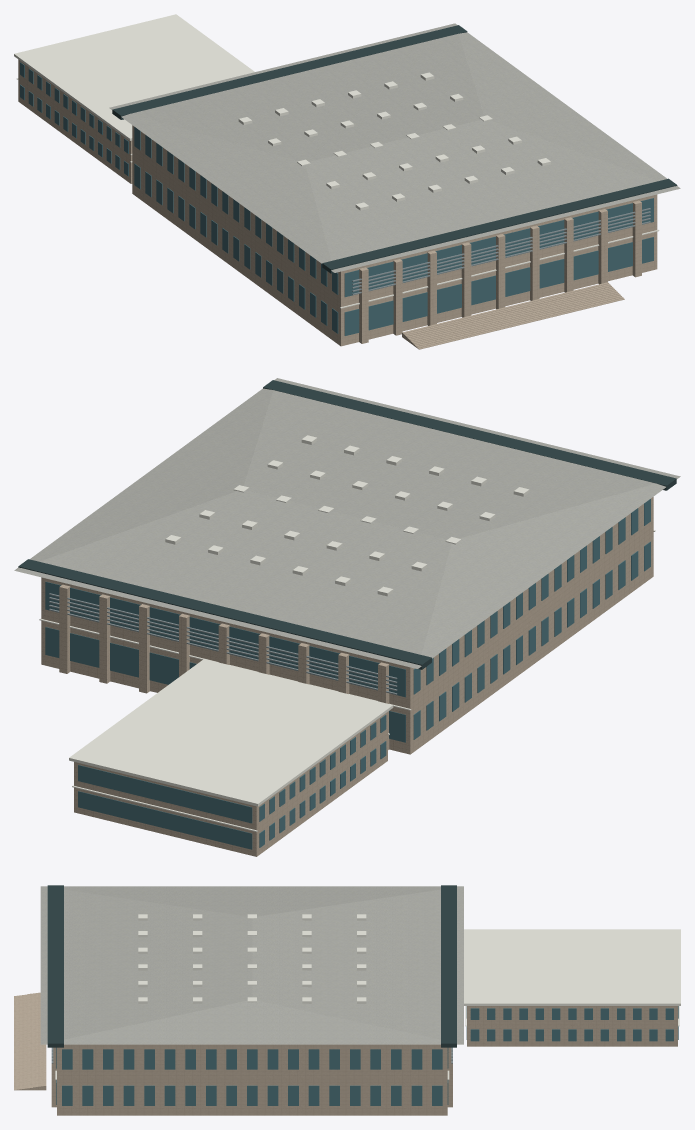
File: stadium.glb
The picture shows the model from 3 angles, top to bottom: view 1: azimuth 30°, elevation 25°; view 2: azimuth 150°, elevation 25°; view 3: azimuth 270°, elevation 25°; orthographic projection. The views are drawn at different scales.
Parts seen in each view (by area): view 1: landmark-stadium; view 2: landmark-stadium; view 3: landmark-stadium.
Part boxes in pixels (x1,y1,x2,y2): landmark-stadium: (14,14,680,349); landmark-stadium: (14,378,680,856); landmark-stadium: (14,885,680,1115).
Bounding box in the file's own units: 92.79 × 23.37 × 165.
6 materials, 2 textured.
